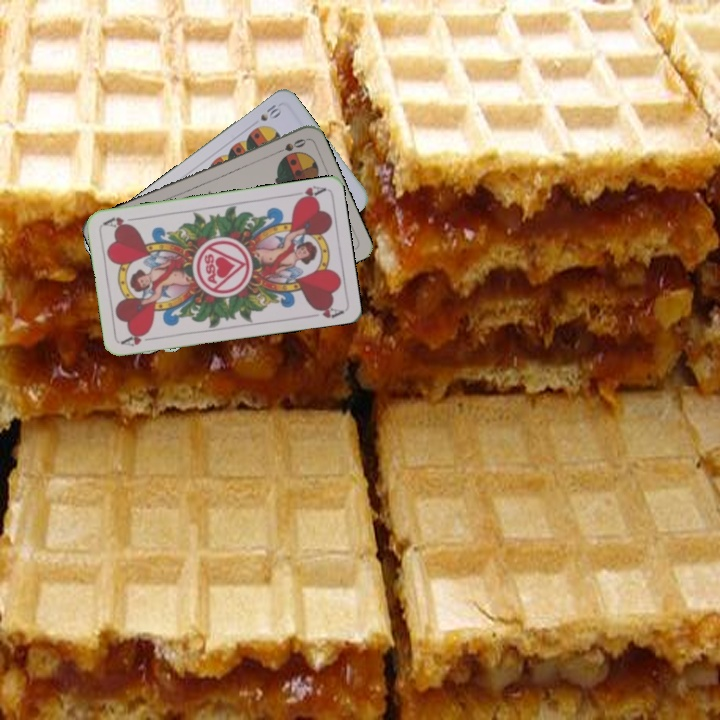HA: (287, 181, 328, 204), (118, 328, 159, 349)
S10: (256, 99, 284, 124)
SO: (270, 134, 309, 157)
